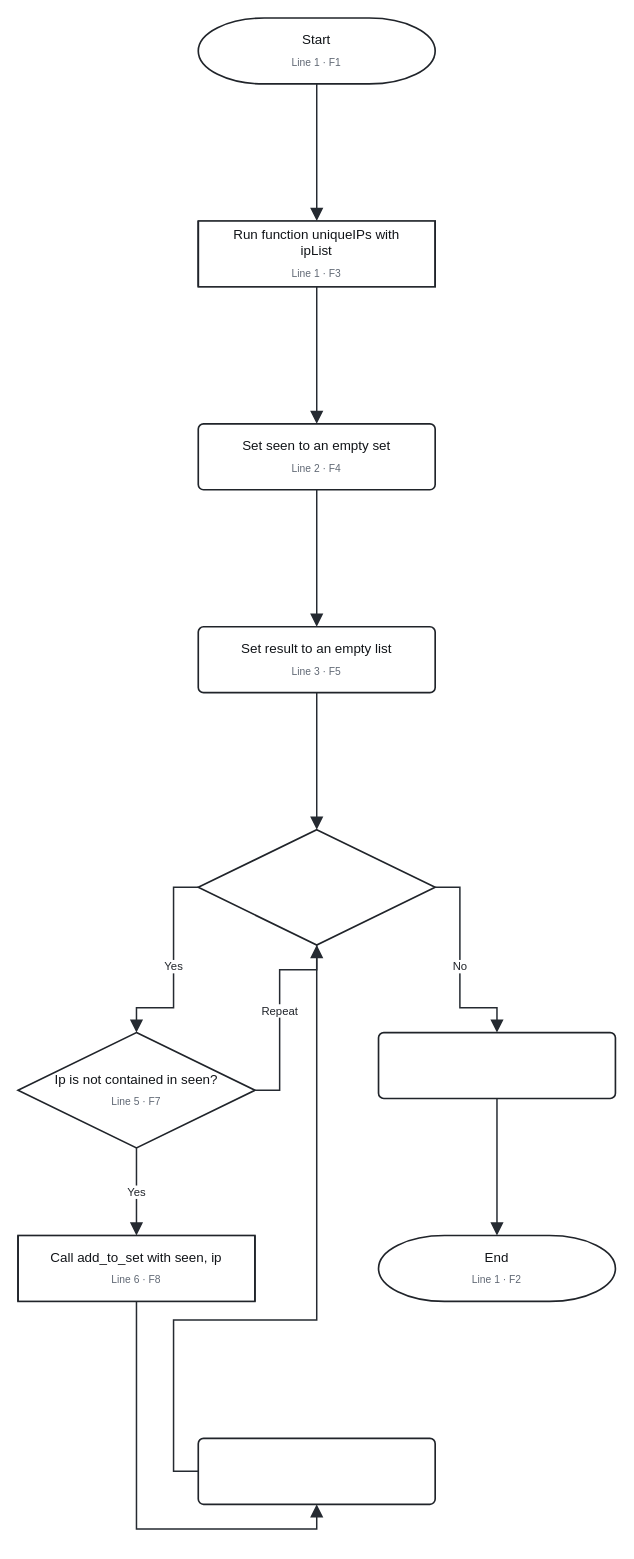
Image size: 634x1559. Some labels were removed from this diagram. The shapes that lost their labels are listed below. From the top down, each one's centre as x and y in pixels, then its label:
point 316,886: For each ip in ipList Line 4 · F6
point 496,1065: Return result Line 10 · F10
point 316,1471: Append ip to result Line 7 · F9
